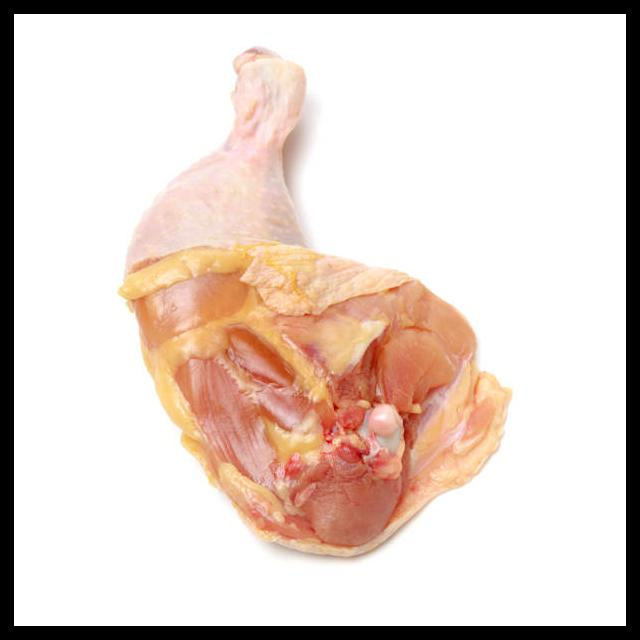chicken: (117, 48, 512, 560)
